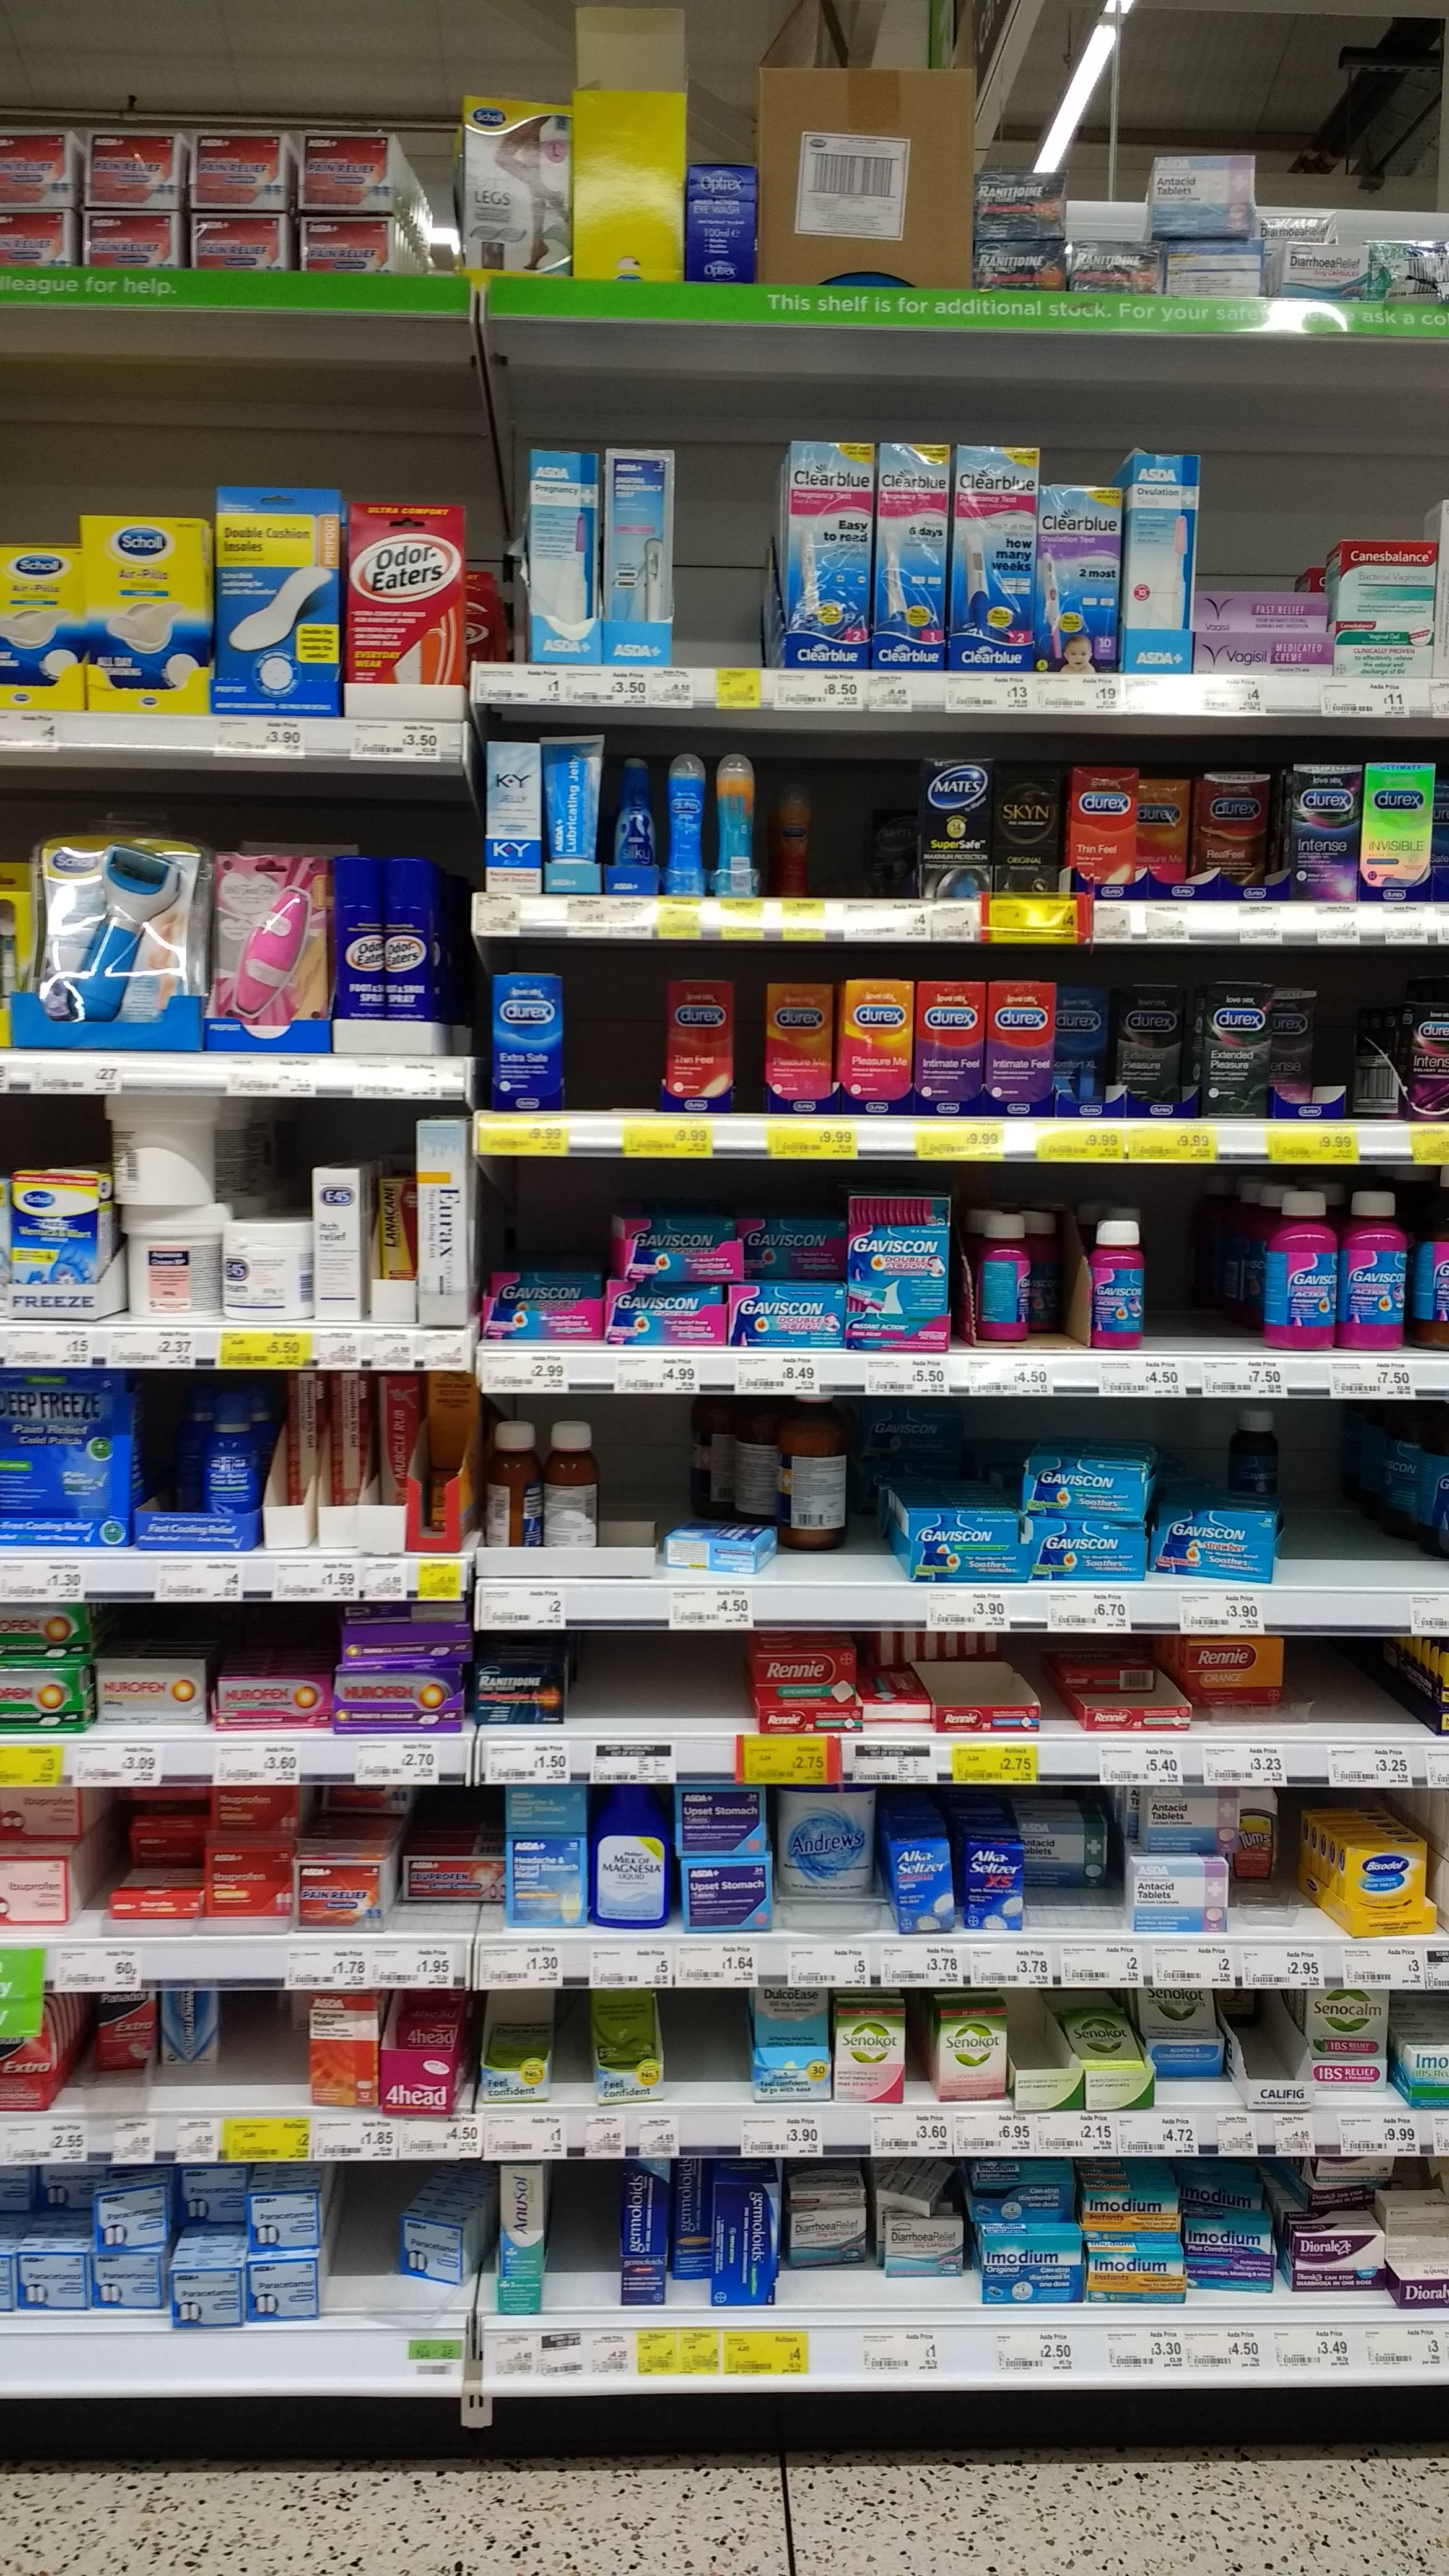misalignment: (115, 1092, 214, 1215), (400, 2171, 485, 2288), (980, 1219, 1039, 1343), (662, 1522, 775, 1575), (876, 2155, 952, 2213)
